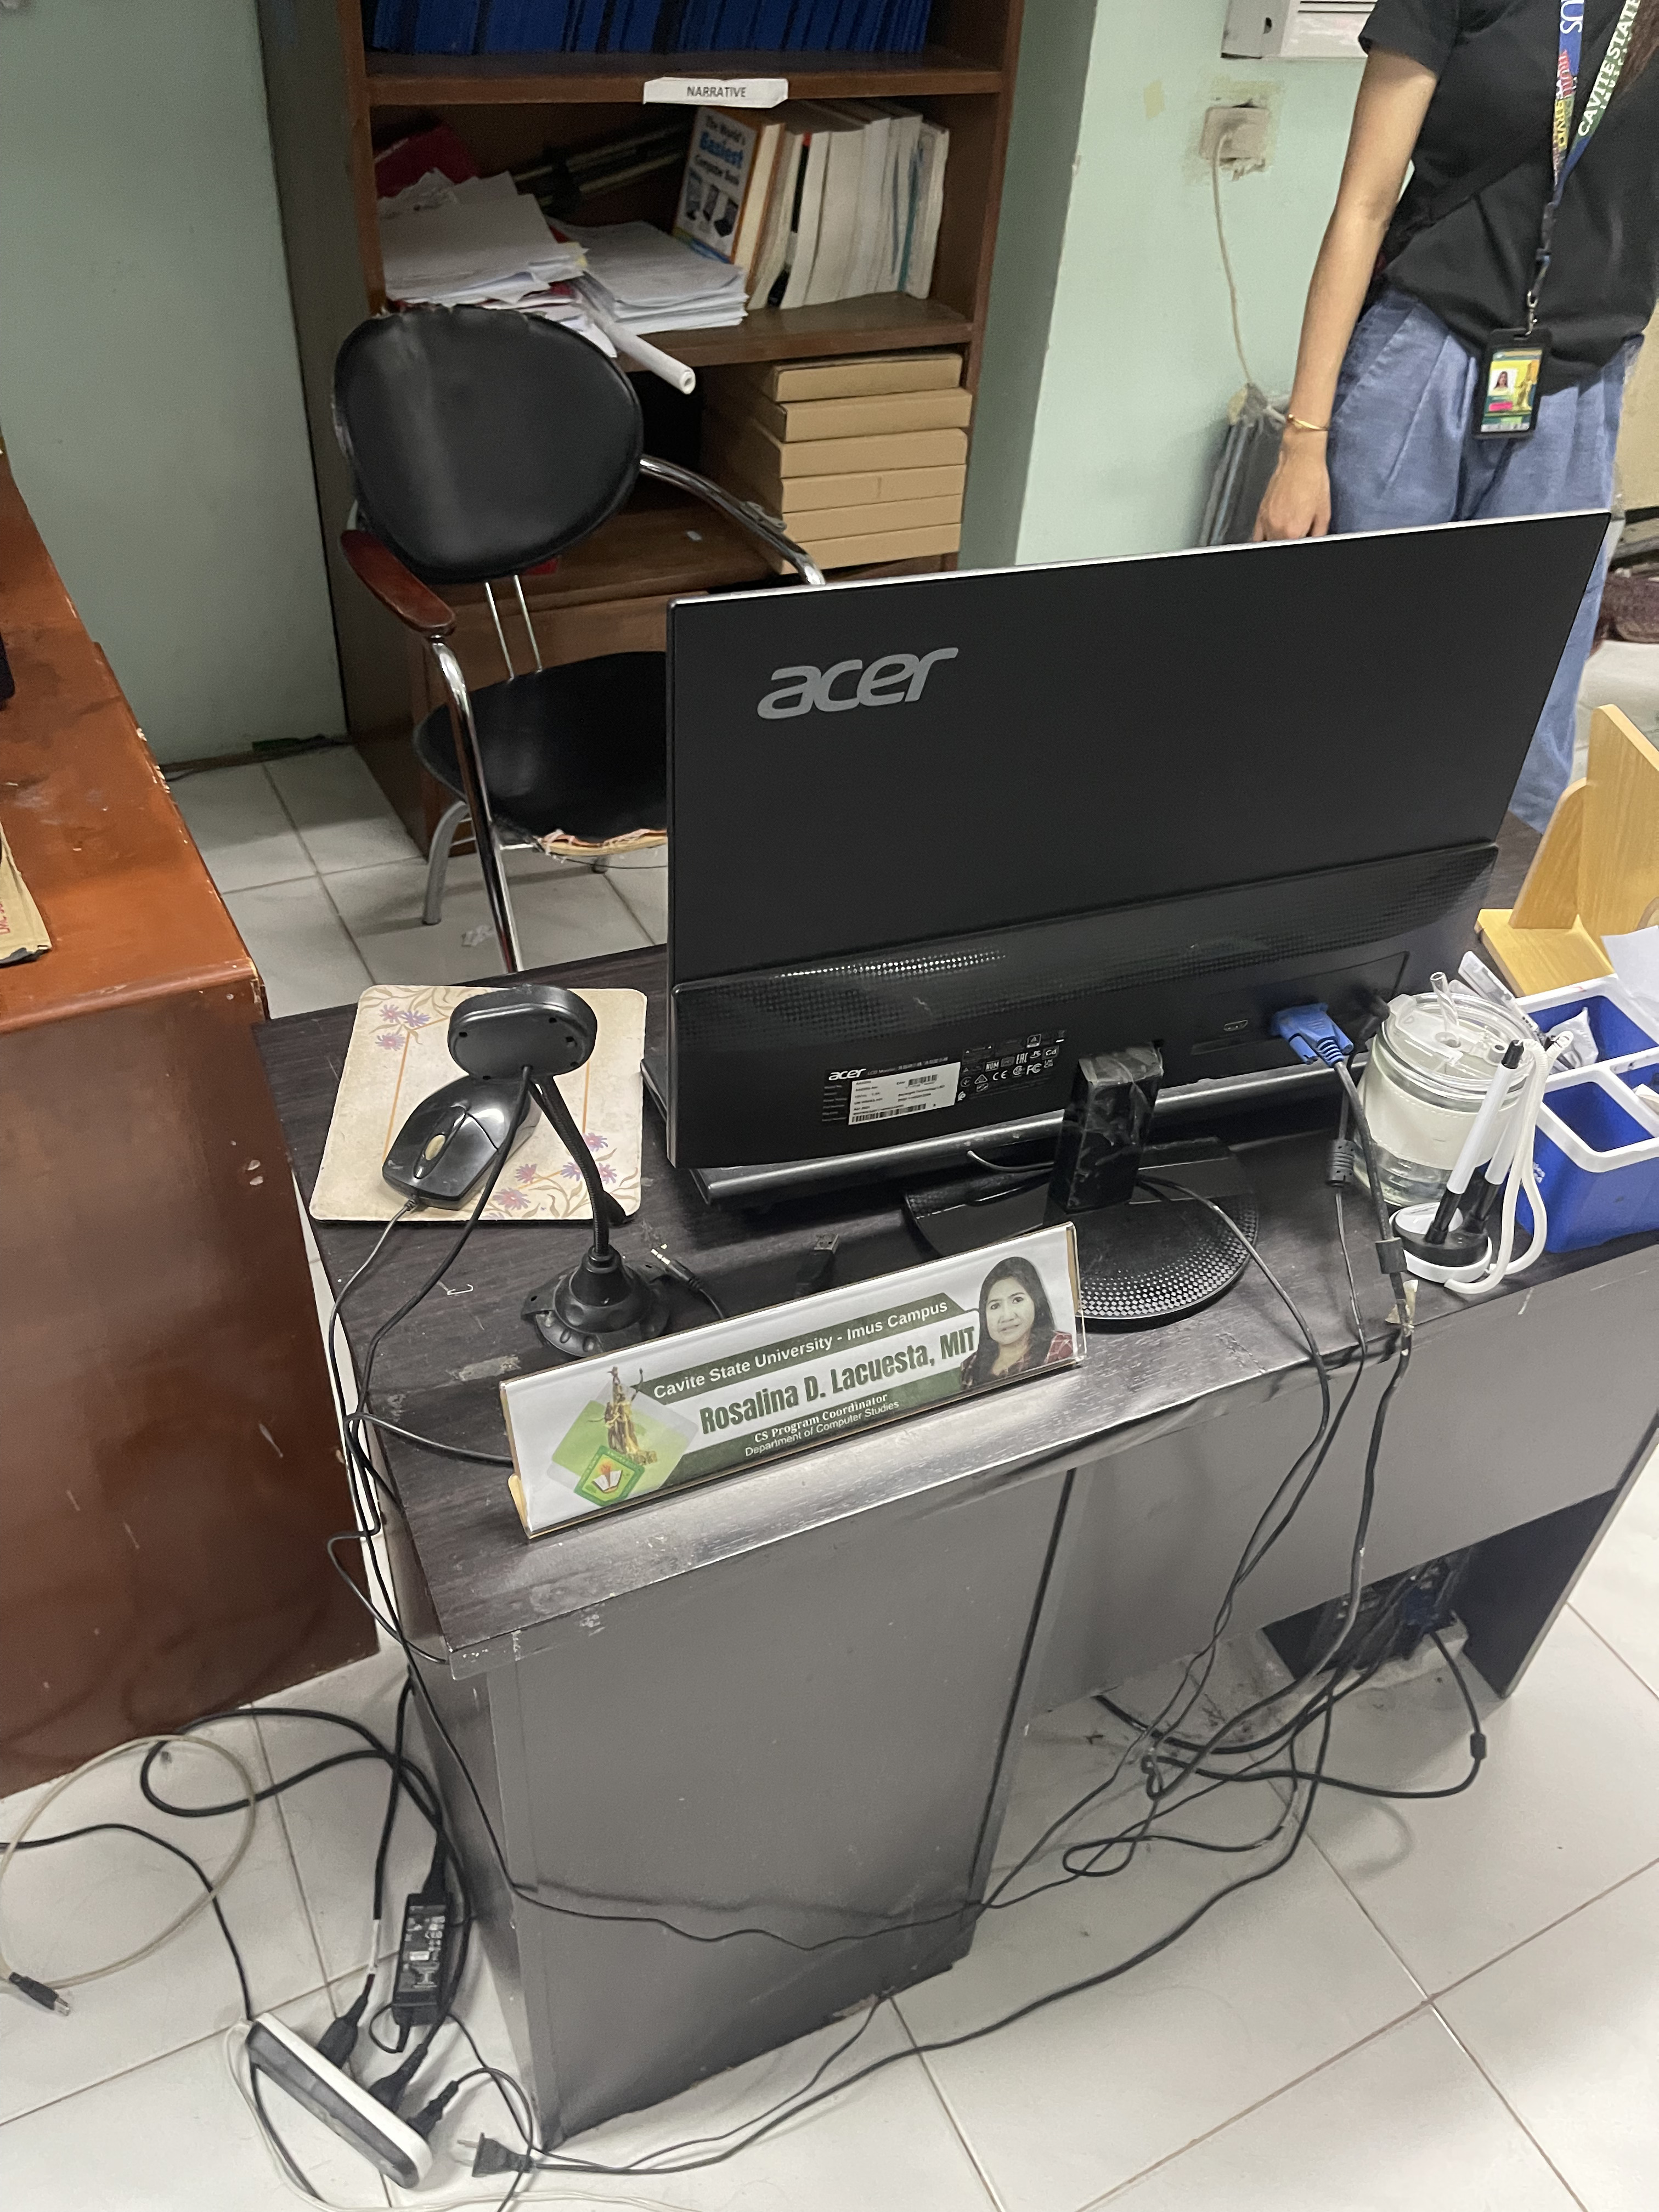table1: (220, 977, 1659, 2153)
